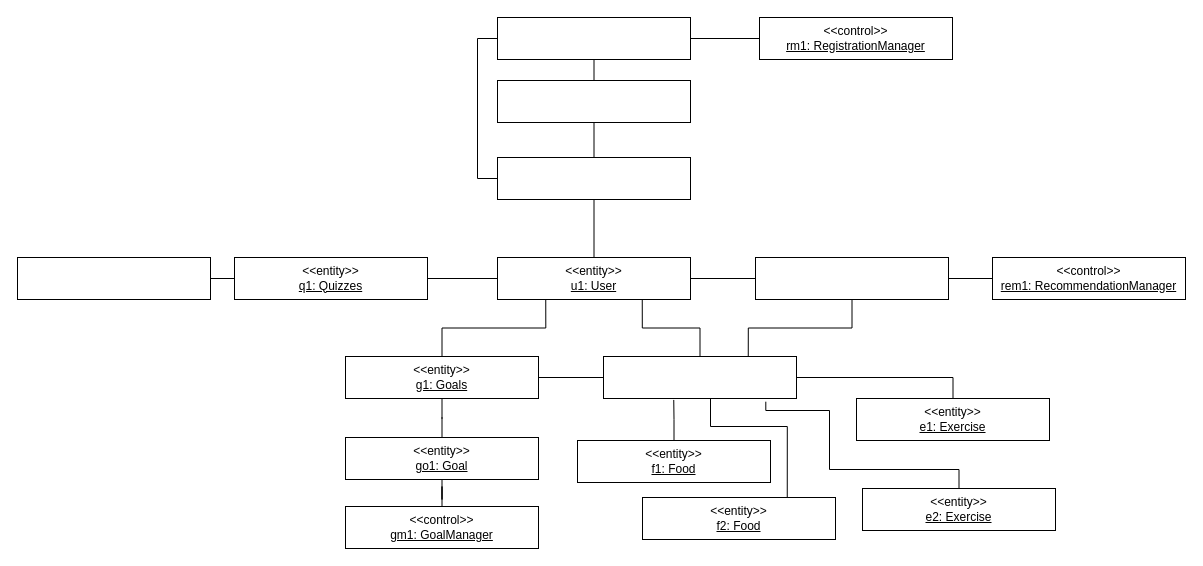
Image size: 1203x566. Some labels were removed from this diagram. The shapes that lost their labels are listed below. From the top down, each one's centre as x and y in pixels, then its label:
pixel 593 38: <<boundary>> ui1: AppGUI
pixel 593 101: <<control>> lm1: LoginManager
pixel 593 178: <<control>> um1: UserManager
pixel 113 278: <<control>> qm1: QuizManager
pixel 851 278: <<entity>> r1: Reccomendation
pixel 699 377: <<entity>> t1: Tracker
